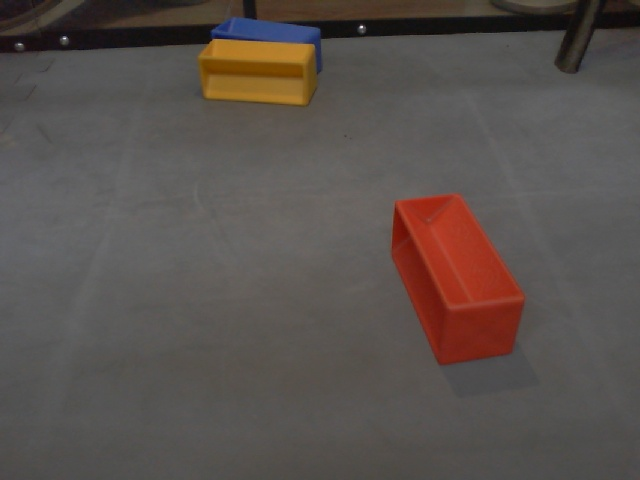BlueSample: (211, 17, 323, 72)
RedSample: (389, 193, 529, 367)
YellowSample: (196, 37, 318, 107)
